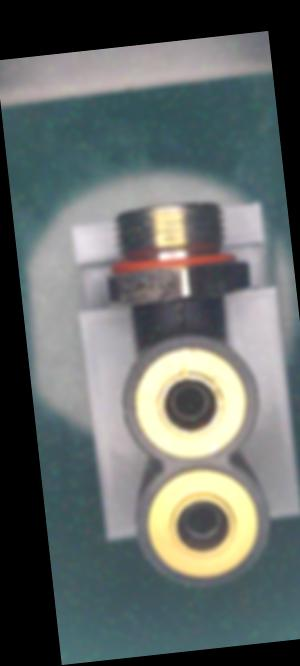craze: (169, 297, 192, 331)
